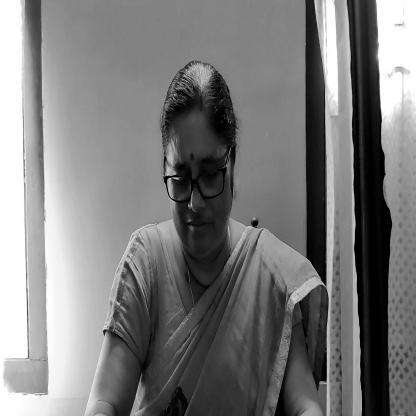Normal: (161, 81, 237, 263)
